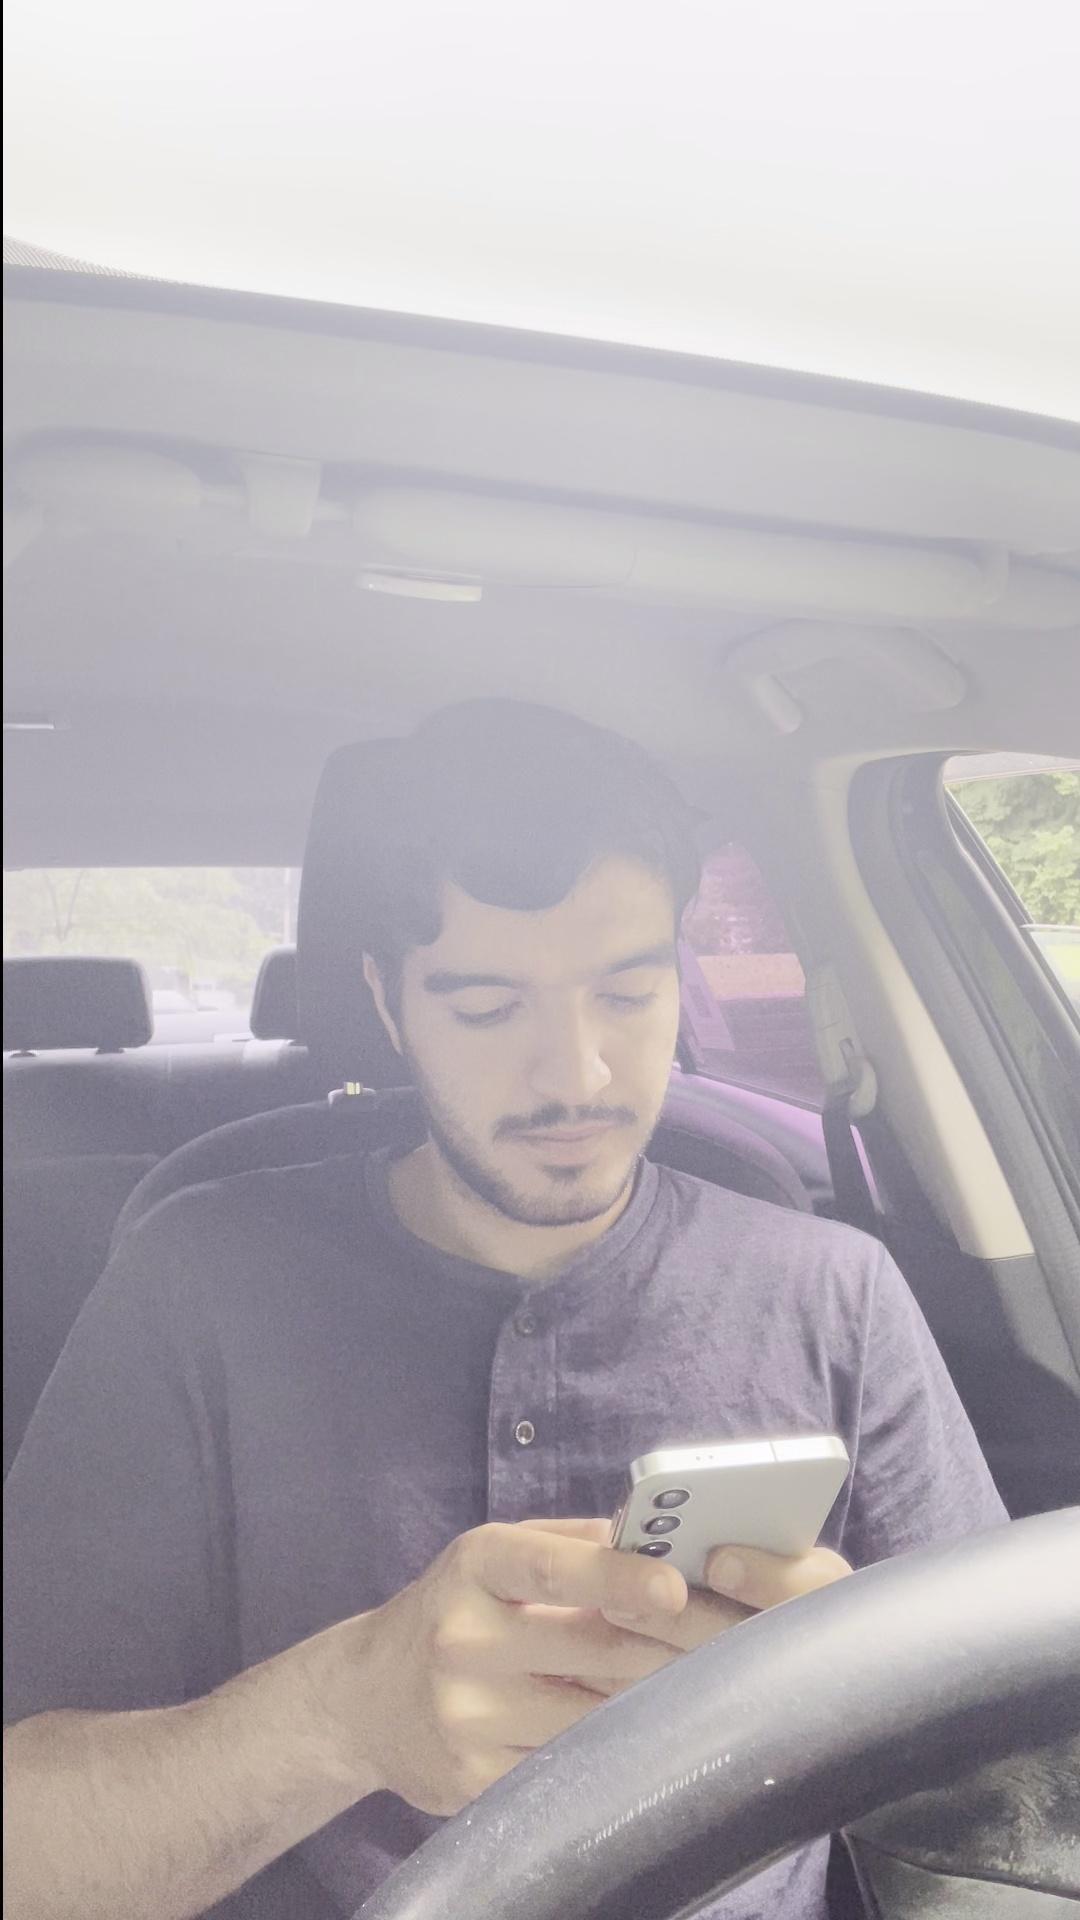mobile: (587, 1414, 864, 1650)
no_seatbelt: (456, 1133, 910, 1573)
